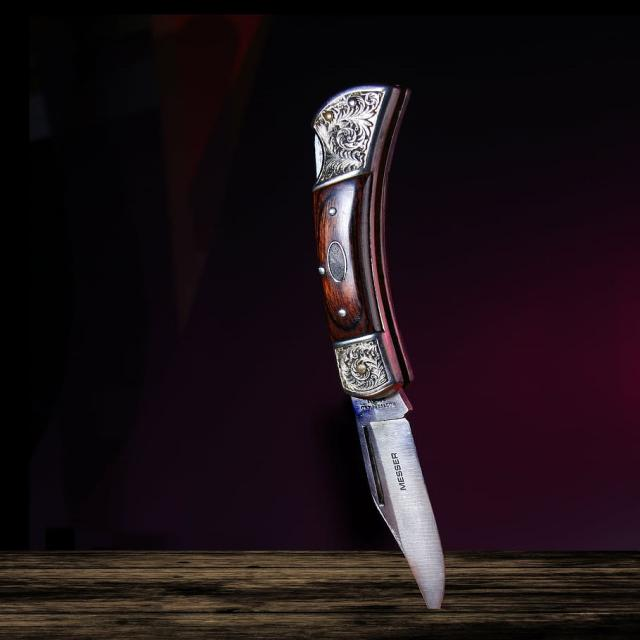knife: (309, 80, 448, 611)
